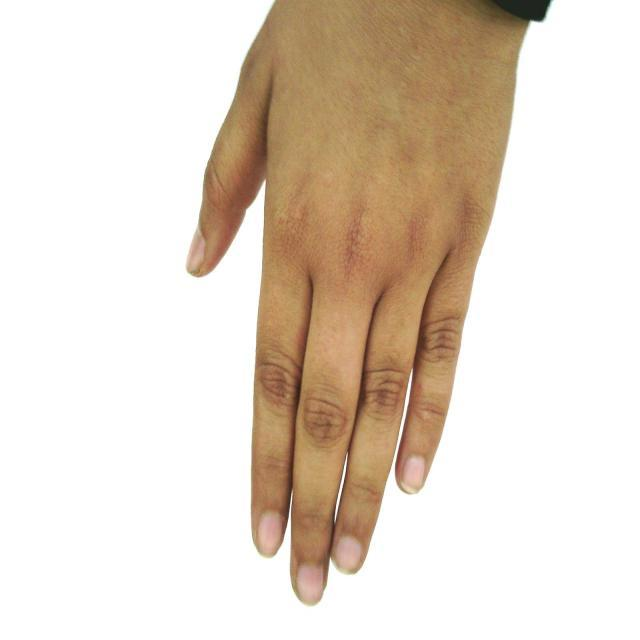Fingernail: (297, 564, 323, 606), (333, 536, 362, 573), (258, 512, 282, 556), (400, 456, 425, 493), (186, 230, 204, 274)
